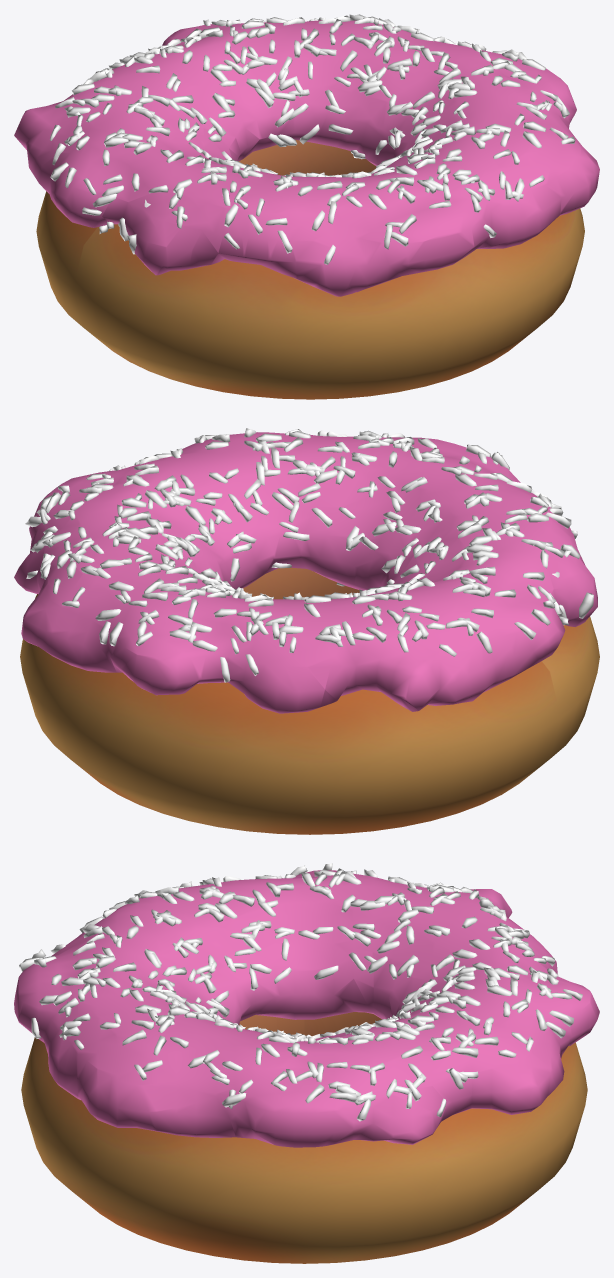
Rendered from donut_44.glb.
3 renders of one model, top to bottom at view 1: azimuth 30°, elevation 25°; view 2: azimuth 150°, elevation 25°; view 3: azimuth 270°, elevation 25°, orthographic. The views are drawn at different scales.
Parts seen in each view (by area): view 1: 糖漿, 麵包; view 2: 糖漿, 麵包; view 3: 糖漿, 麵包.
Boxes of the visible parts, bbox=[...] form: 糖漿: bbox=[14, 20, 599, 296]; 麵包: bbox=[36, 140, 584, 399]; 糖漿: bbox=[14, 432, 597, 713]; 麵包: bbox=[20, 567, 599, 834]; 糖漿: bbox=[14, 870, 599, 1147]; 麵包: bbox=[21, 1012, 587, 1263].
Bounding box in the file's own units: 3.11 × 1.27 × 3.1.
3 materials, 1 textured.
